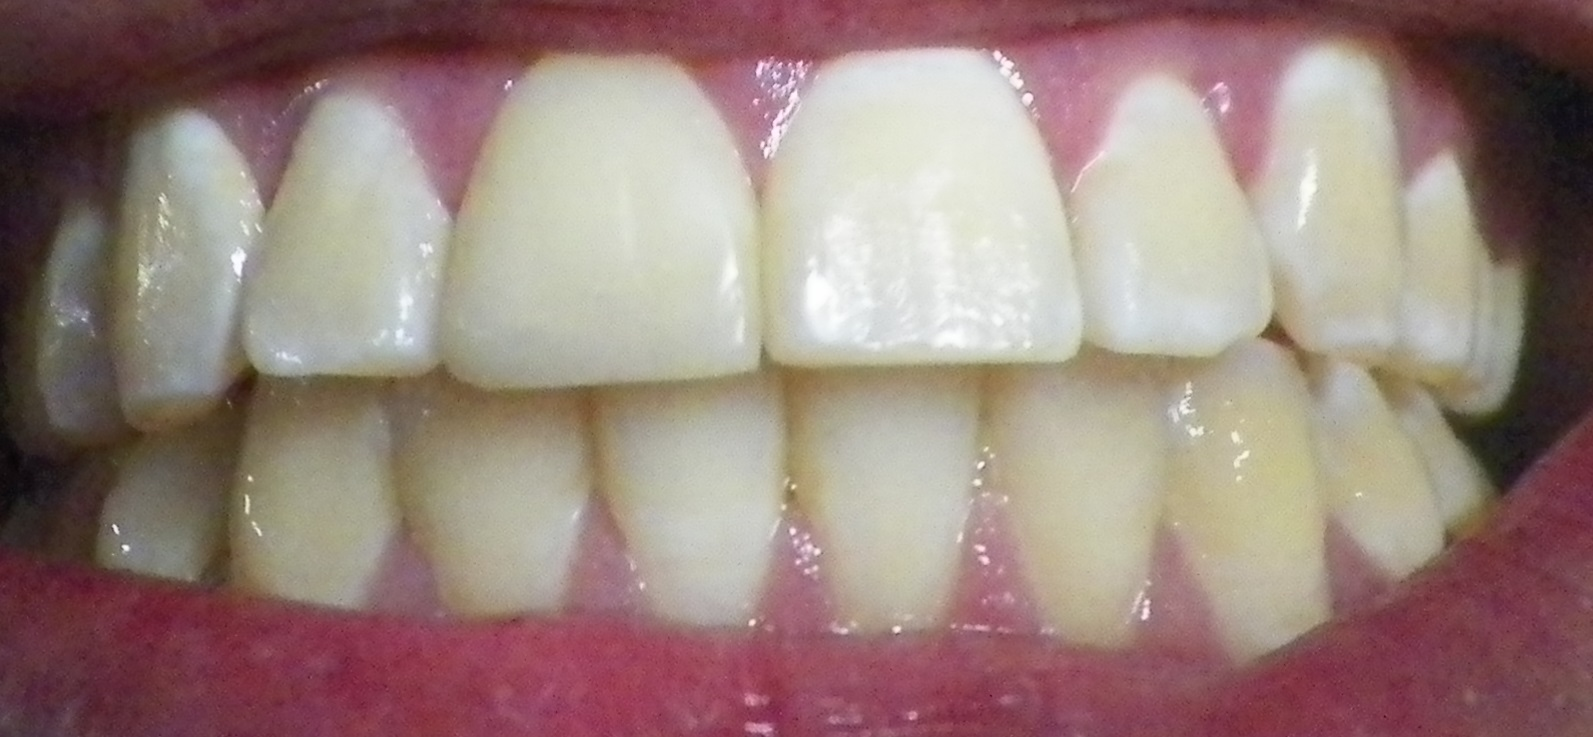boca: (1, 49, 1520, 641)
